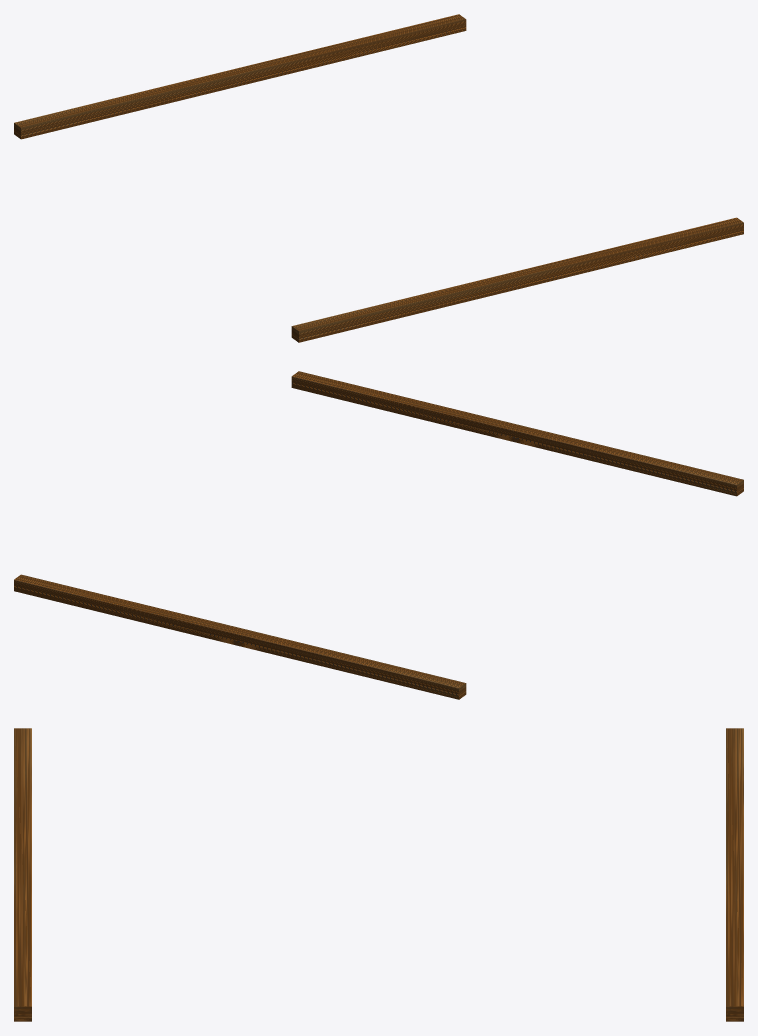
The picture shows the model from 3 angles, top to bottom: view 1: azimuth 30°, elevation 25°; view 2: azimuth 150°, elevation 25°; view 3: azimuth 270°, elevation 25°; orthographic projection. The views are drawn at different scales.
Visible parts, largest first — view 1: 4x4.032; view 2: 4x4.032; view 3: 4x4.032.
Boxes of the visible parts, box(x1,y1,x2,y2) form: 4x4.032: box(14, 14, 743, 342); 4x4.032: box(14, 371, 743, 699); 4x4.032: box(14, 728, 743, 1021).
Bounding box in the file's own units: 1193 × 29.61 × 1322.
1 material, 1 textured.
